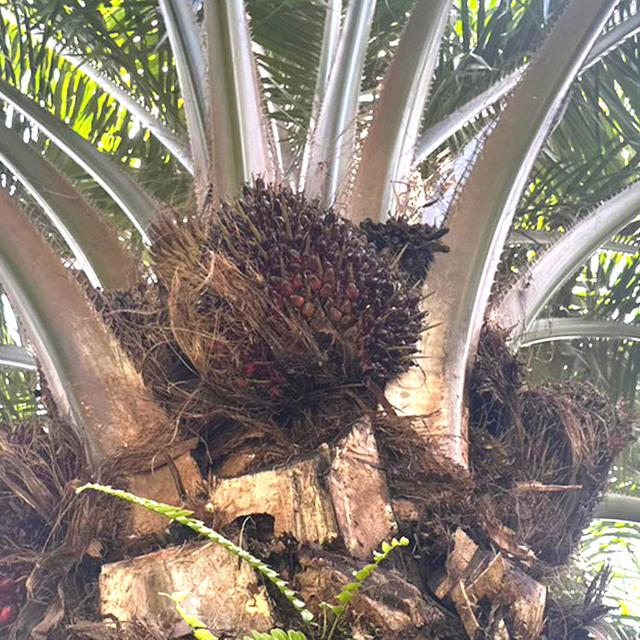ripe: (166, 173, 433, 388)
